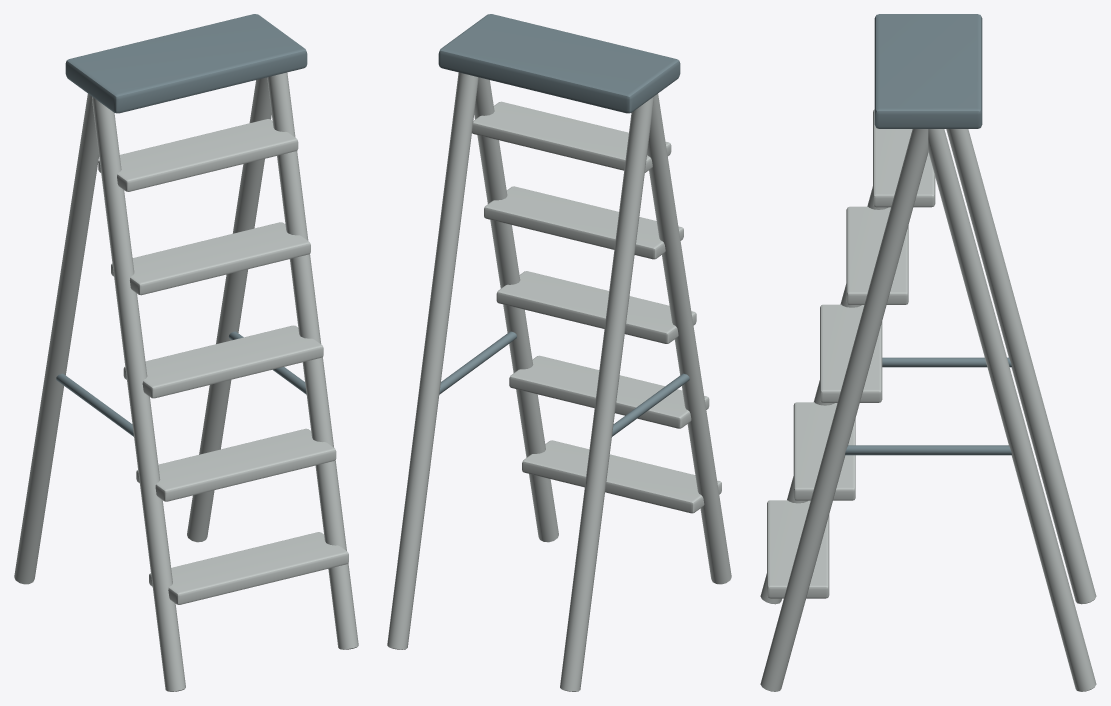
File: ladder.glb
3 renders of one model, left to right at view 1: azimuth 30°, elevation 25°; view 2: azimuth 150°, elevation 25°; view 3: azimuth 270°, elevation 25°, orthographic. The views are drawn at different scales.
Parts seen in each view (by area): view 1: top_platform, front_rail, front_rail.001, rear_rail, step.002, step.001, step.004, step.003, step, rear_rail.001, spread_limit; view 2: top_platform, rear_rail, rear_rail.001, front_rail, front_rail.001, step.004, step, step.002, step.003, step.001, spread_limit, spread_limit.001; view 3: front_rail.001, rear_rail.001, top_platform, rear_rail, step.003, step.002, step, step.001, step.004, spread_limit.001, spread_limit, front_rail.
Part boxes in pixels (left/top/right/bottom): top_platform: left=65, top=14, right=307, bottom=113; front_rail: left=92, top=96, right=185, bottom=691; front_rail.001: left=267, top=72, right=358, bottom=649; rear_rail: left=14, top=94, right=98, bottom=584; step.002: left=123, top=325, right=323, bottom=398; step.001: left=136, top=428, right=336, bottom=501; step.004: left=98, top=119, right=298, bottom=191; step.003: left=111, top=222, right=310, bottom=295; step: left=149, top=532, right=348, bottom=604; rear_rail.001: left=187, top=77, right=271, bottom=542; spread_limit: left=56, top=373, right=133, bottom=436; top_platform: left=438, top=14, right=680, bottom=113; rear_rail: left=560, top=96, right=653, bottom=691; rear_rail.001: left=387, top=72, right=478, bottom=649; front_rail: left=647, top=94, right=731, bottom=584; front_rail.001: left=474, top=77, right=558, bottom=542; step.004: left=472, top=101, right=671, bottom=172; step: left=522, top=440, right=721, bottom=513; step.002: left=496, top=271, right=696, bottom=343; step.003: left=484, top=186, right=683, bottom=259; step.001: left=509, top=355, right=709, bottom=428; spread_limit: left=612, top=373, right=689, bottom=436; spread_limit.001: left=439, top=331, right=516, bottom=394; front_rail.001: left=760, top=129, right=928, bottom=691; rear_rail.001: left=928, top=129, right=1096, bottom=691; top_platform: left=874, top=14, right=982, bottom=128; rear_rail: left=946, top=129, right=1096, bottom=604; step.003: left=846, top=206, right=908, bottom=304; step.002: left=820, top=304, right=882, bottom=402; step: left=767, top=500, right=829, bottom=598; step.001: left=793, top=402, right=855, bottom=500; step.004: left=873, top=109, right=935, bottom=207; spread_limit.001: left=845, top=445, right=1011, bottom=455; spread_limit: left=882, top=357, right=1011, bottom=367; front_rail: left=760, top=186, right=888, bottom=604.
Size of the model in its own units: 0.56 by 1.55 by 0.8095.
